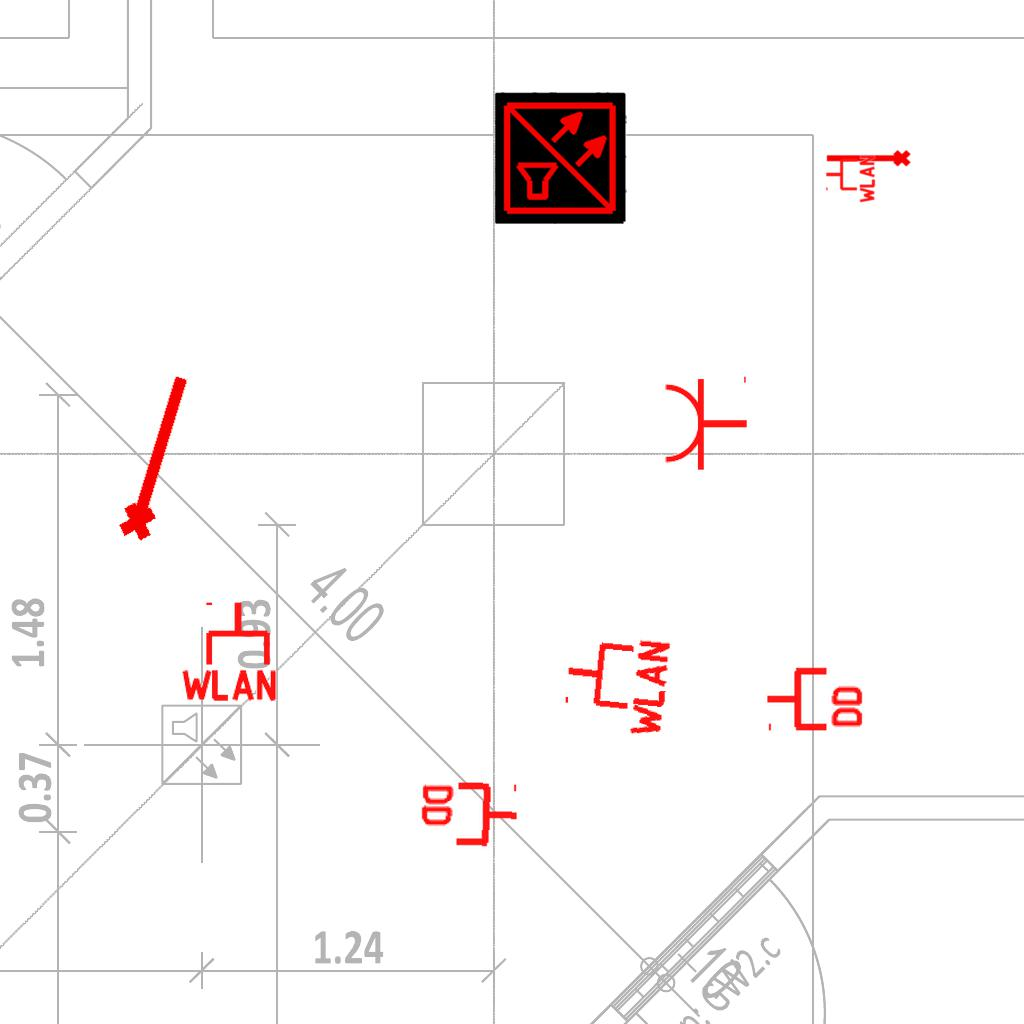ASR_Ansaugoeffnung: (107, 365, 203, 547), (824, 148, 912, 171)
Datenanschluss_zweifach: (415, 779, 522, 852), (764, 663, 867, 732)
OKW_Multisensormelder_(Kombination_optischer_Rauch-Kahlenmonoxid_Waerme-Melder): (495, 92, 627, 224)
Schukosteckdose_einfach: (662, 372, 749, 472)
WLAN: (557, 627, 674, 743), (177, 598, 281, 703), (824, 153, 876, 205)
